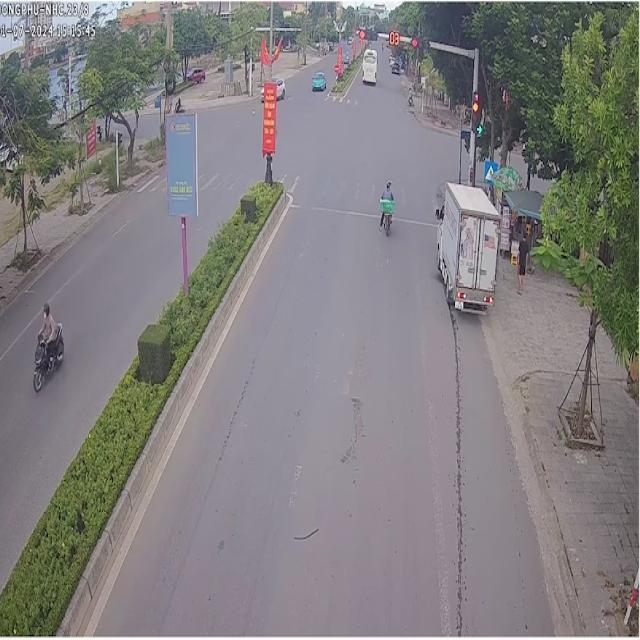car: (435, 182, 498, 309), (360, 46, 376, 80), (270, 75, 284, 98), (310, 68, 324, 89)
motobike: (32, 321, 63, 388), (378, 178, 393, 232)
red_light: (471, 89, 480, 132), (410, 36, 431, 51), (359, 27, 378, 38), (389, 32, 400, 45)
stop_line: (290, 203, 378, 216), (392, 215, 434, 225)
